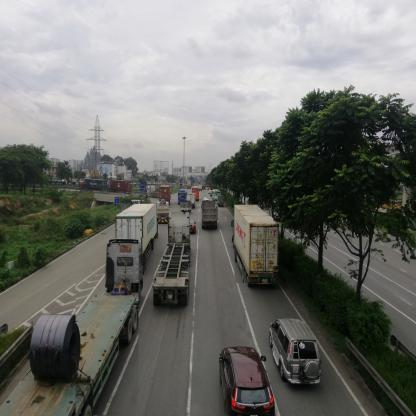bus: (213, 190, 221, 199), (179, 193, 186, 201)
car: (220, 349, 270, 416), (274, 320, 321, 383)
container: (77, 240, 140, 416), (154, 213, 190, 307), (235, 206, 274, 284), (117, 205, 159, 239), (81, 180, 106, 192), (107, 182, 134, 193), (160, 186, 171, 201), (149, 185, 156, 197)
truck: (203, 202, 219, 230), (158, 203, 170, 225), (188, 195, 197, 207), (181, 203, 192, 211)
